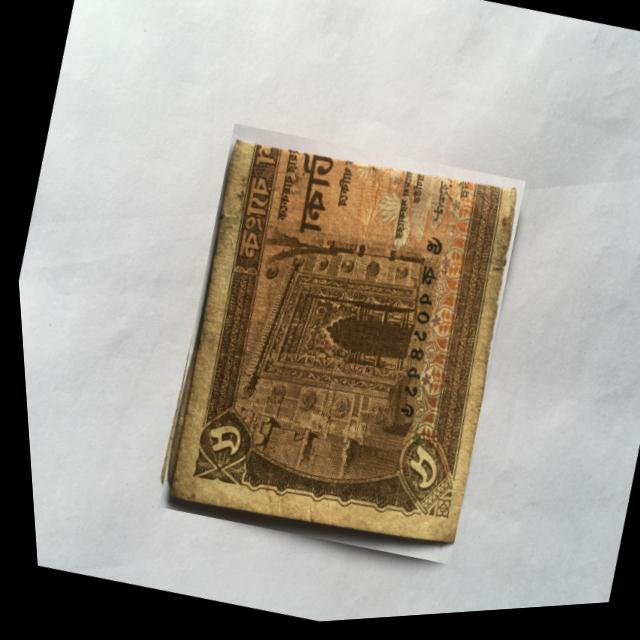Taka: (131, 112, 542, 585)
